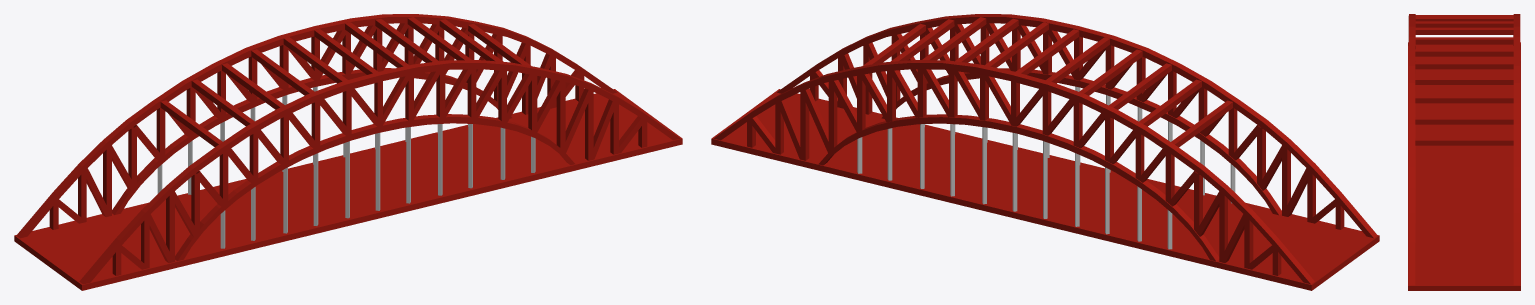
Rendered from overheadarchbridge.obj.
3 renders of one model, left to right at view 1: azimuth 30°, elevation 25°; view 2: azimuth 150°, elevation 25°; view 3: azimuth 270°, elevation 25°, orthographic. The views are drawn at different scales.
Visible parts, largest first — view 1: Cube_Cube.047; view 2: Cube_Cube.047; view 3: Cube_Cube.047.
Part boxes in pixels (left/top/right/bottom): Cube_Cube.047: left=14, top=14, right=682, bottom=290; Cube_Cube.047: left=711, top=14, right=1379, bottom=290; Cube_Cube.047: left=1408, top=14, right=1520, bottom=290.
Bounding box in the file's own units: 22.12 × 5.01 × 4.33.
